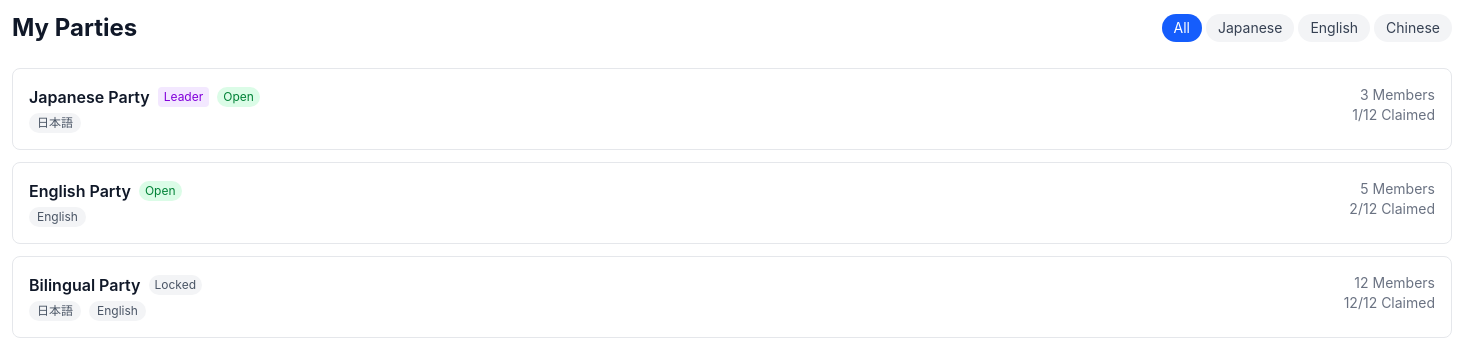
it: MyParties — language filtering › filters parties when Japanese filter is clicked
The width and height of the screenshot is (1464, 355).
Expected: the heading "Japanese Party" is shown, [29, 85, 150, 109]
Click the button "Japanese" at [1250, 28], box [1206, 14, 1294, 42]
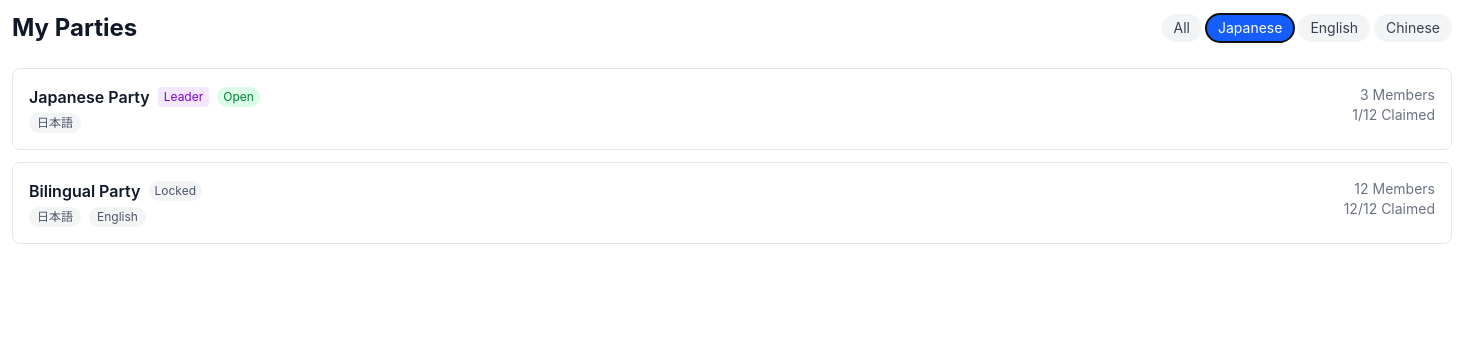
Expected: the heading "Japanese Party" is shown, [29, 85, 150, 109]
Now the link "English Party" is gone
